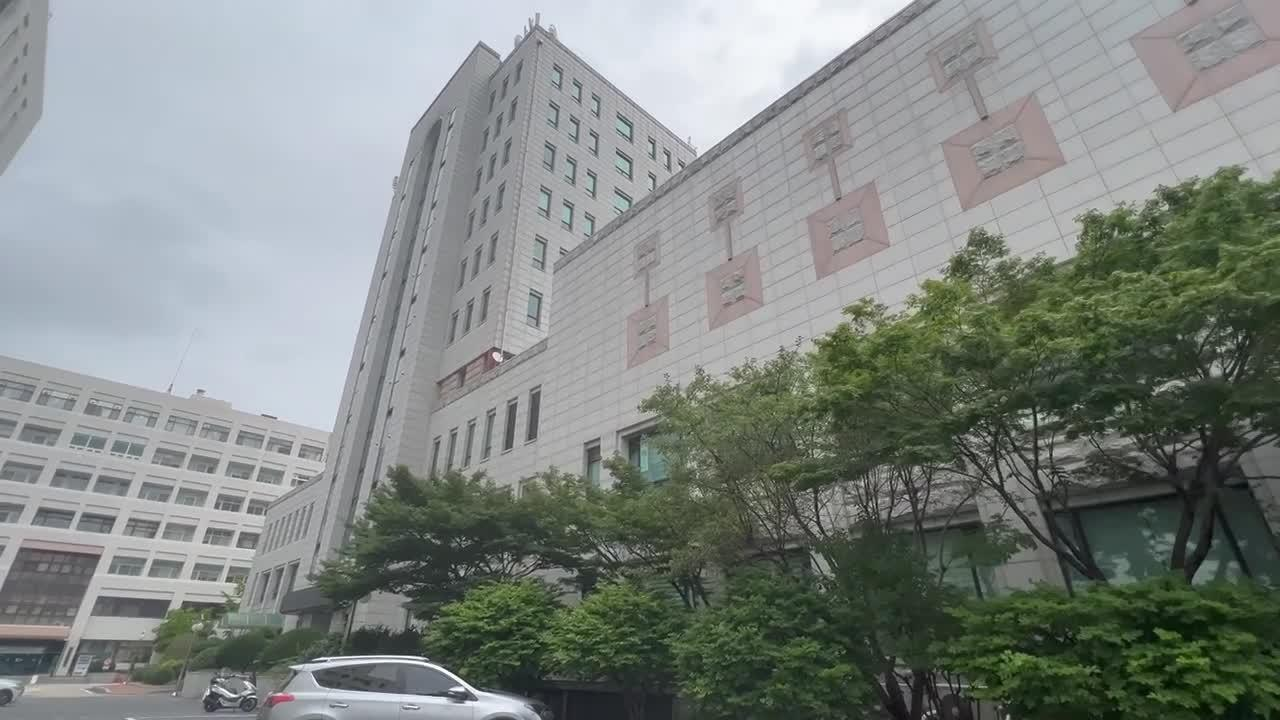building: (348, 10, 896, 376)
